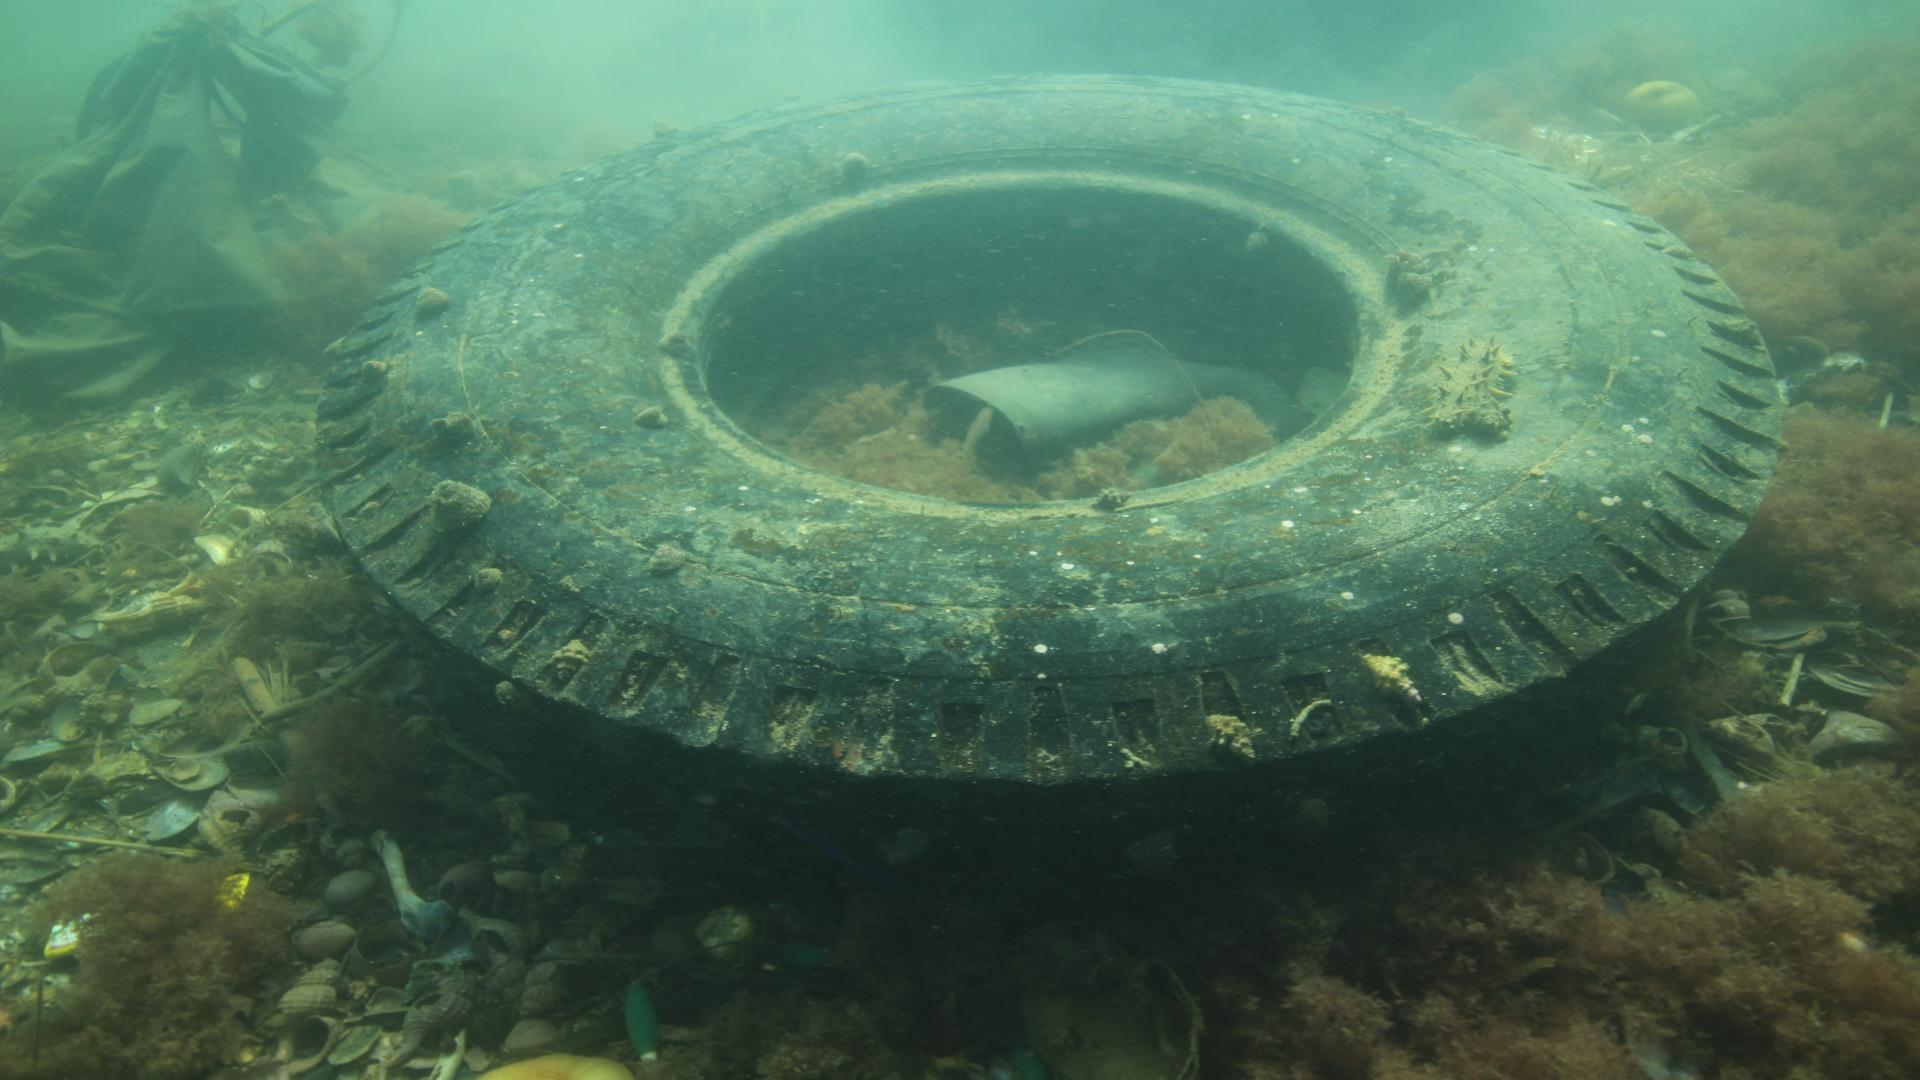tire: (315, 74, 1787, 931)
